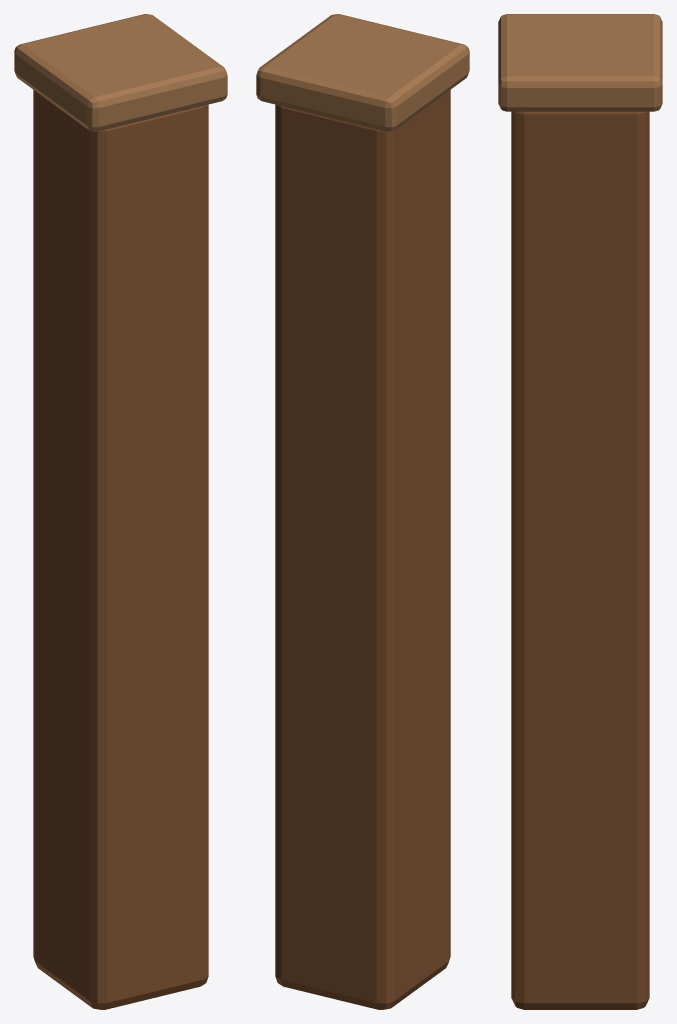
The model's file is fence_post.glb.
3 views of the same model, side by side, from view 1: azimuth 30°, elevation 25°; view 2: azimuth 150°, elevation 25°; view 3: azimuth 270°, elevation 25° (orthographic).
Parts seen in each view (by area): view 1: post.011, post_cap.007; view 2: post.011, post_cap.007; view 3: post.011, post_cap.007.
Part boxes in pixels (<box>): post.011: <box>33,90,208,1009</box>; post_cap.007: <box>14,14,227,131</box>; post.011: <box>275,90,450,1009</box>; post_cap.007: <box>256,14,469,131</box>; post.011: <box>511,111,649,1009</box>; post_cap.007: <box>498,14,662,111</box>.
Size of the model in its own units: 0.19 by 1.2 by 0.19.
